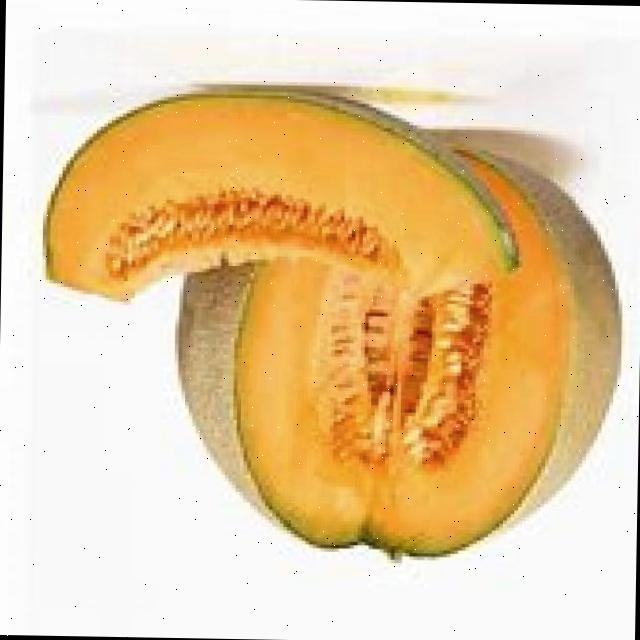Hami Melon: (172, 138, 626, 562), (42, 82, 524, 310)
